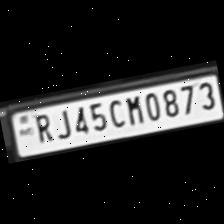0: (138, 88, 162, 124)
3: (193, 77, 218, 113)
4: (66, 103, 90, 139)
5: (82, 99, 108, 135)
7: (175, 81, 199, 116)
8: (155, 84, 181, 120)
C: (102, 96, 127, 132)
J: (50, 106, 75, 142)
M: (120, 92, 146, 128)
R: (26, 110, 54, 146)
